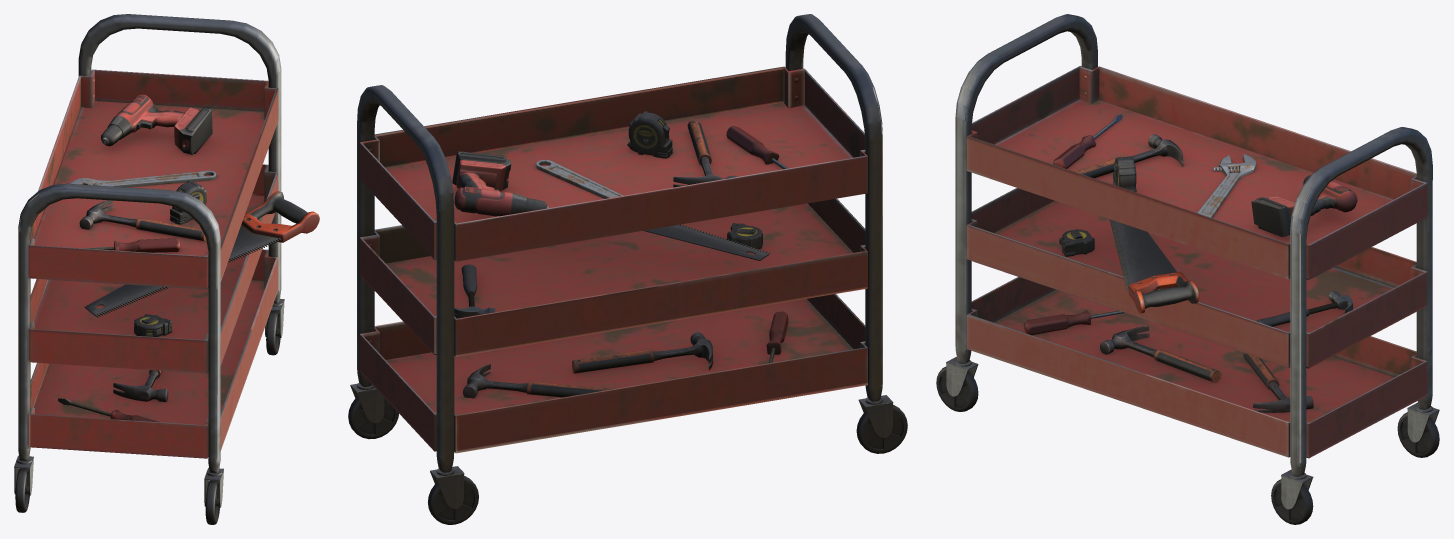
Rendered from Tools.fbx.
3 renders of one model, left to right at view 1: azimuth 30°, elevation 25°; view 2: azimuth 150°, elevation 25°; view 3: azimuth 270°, elevation 25°, orthographic. The views are drawn at different scales.
Visible parts, largest first — view 1: Bars, SawLowShape, BodyShape, Hammer_Handle_low, WrenchShape, Hammer2_Handle_low, Screwdriver, TapeMeasure_low1Shape, TapeMeasure_lowShape, Screwdriver1; view 2: Bars, BodyShape, Hammer2_Handle_low, Hammer3_Handle_low, TapeMeasure_lowShape, SawLowShape, Hammer_Handle_low, WrenchShape, Screwdriver, Grip_Low, Screwdriver1, TapeMeasure_low1Shape; view 3: Bars, SawLowShape, BodyShape, Hammer2_Handle_low, WrenchShape, Hammer_Handle_low, Hammer3_Handle_low, Screwdriver1, Grip_Low, Screwdriver, TapeMeasure_low1Shape, TapeMeasure_lowShape.
Part boxes in pixels (x1,y1,x2,y2): Bars: [14, 14, 284, 524]; SawLowShape: [84, 191, 319, 317]; BodyShape: [100, 94, 212, 154]; Hammer_Handle_low: [79, 200, 206, 241]; WrenchShape: [70, 170, 216, 187]; Hammer2_Handle_low: [113, 370, 168, 401]; Screwdriver: [84, 238, 180, 252]; TapeMeasure_low1Shape: [134, 314, 172, 336]; TapeMeasure_lowShape: [170, 181, 206, 224]; Screwdriver1: [58, 398, 159, 422]; Bars: [348, 14, 907, 524]; BodyShape: [452, 151, 548, 216]; Hammer2_Handle_low: [572, 332, 712, 373]; Hammer3_Handle_low: [463, 364, 611, 398]; TapeMeasure_lowShape: [627, 111, 672, 158]; SawLowShape: [643, 224, 769, 260]; Hammer_Handle_low: [673, 119, 737, 187]; WrenchShape: [536, 160, 623, 198]; Screwdriver: [726, 125, 788, 169]; Grip_Low: [454, 264, 495, 318]; Screwdriver1: [766, 311, 788, 363]; TapeMeasure_low1Shape: [727, 223, 762, 249]; Bars: [936, 14, 1439, 524]; SawLowShape: [1109, 219, 1199, 313]; BodyShape: [1251, 175, 1357, 236]; Hammer2_Handle_low: [1100, 326, 1221, 382]; WrenchShape: [1197, 154, 1256, 217]; Hammer_Handle_low: [1075, 134, 1183, 178]; Hammer3_Handle_low: [1243, 353, 1313, 412]; Screwdriver1: [1024, 310, 1124, 335]; Grip_Low: [1256, 291, 1352, 326]; Screwdriver: [1053, 114, 1122, 168]; TapeMeasure_low1Shape: [1059, 229, 1094, 256]; TapeMeasure_lowShape: [1113, 156, 1136, 192].
Size of the model in its own units: 59.84 by 48.9 by 65.09.
Materials: 1 (1 with a texture image).
